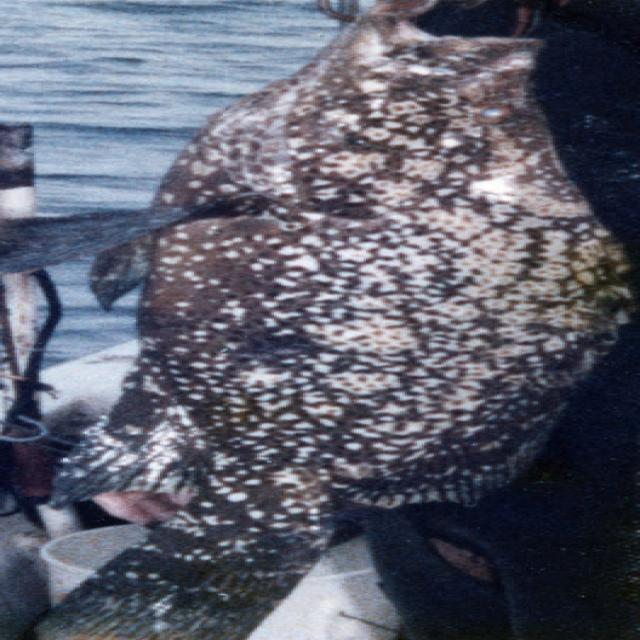fish: (0, 1, 638, 640)
